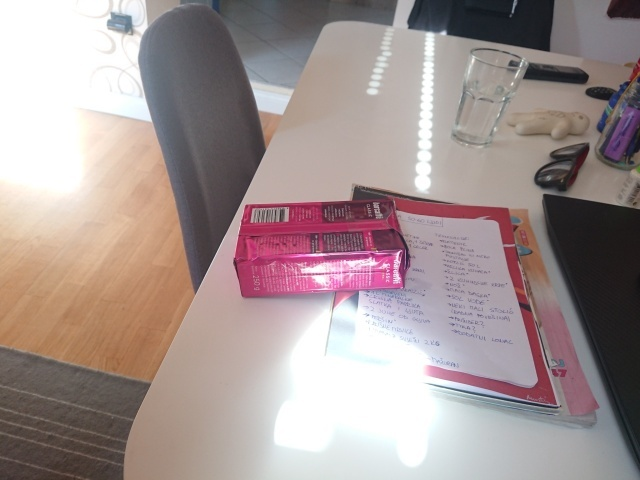Barcaffe Classic Original 225g: (230, 197, 413, 301)
